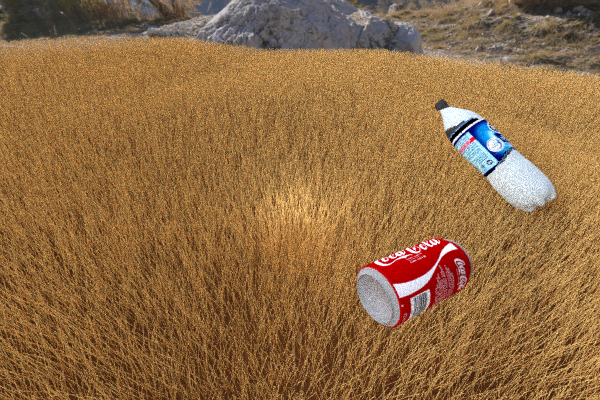bottle: (434, 99, 556, 212)
can: (356, 238, 472, 327)
